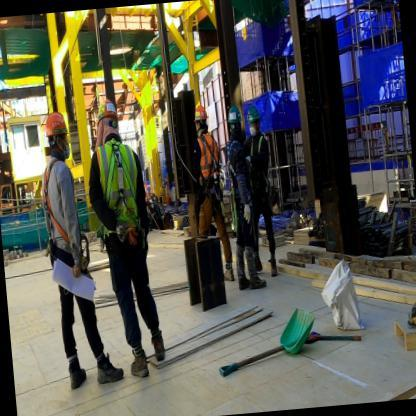Helmet: (40, 104, 70, 143)
safety-shoe: (92, 355, 125, 393), (66, 364, 90, 400), (149, 330, 172, 364), (130, 352, 152, 386)
